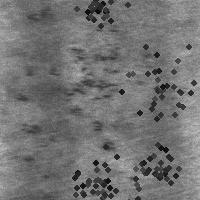rolled-in_scale: (102, 33, 200, 141), (57, 36, 128, 154), (50, 135, 146, 200), (123, 131, 193, 200), (15, 64, 60, 166), (64, 0, 126, 35)
